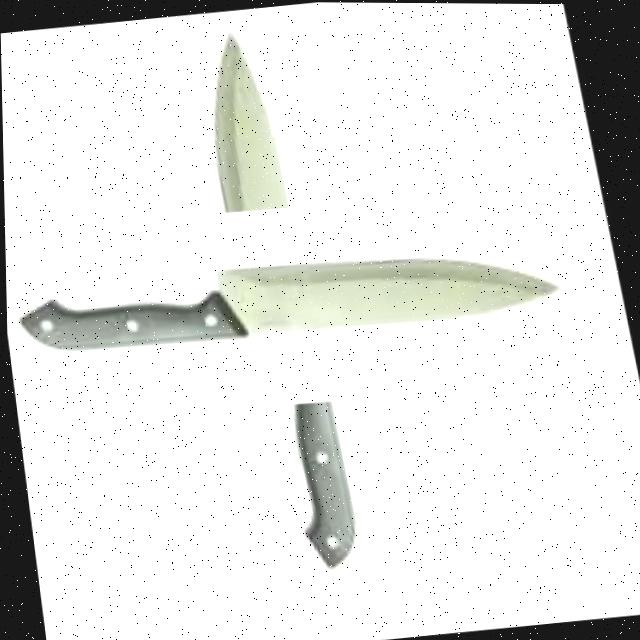knife: (195, 24, 361, 576), (11, 244, 563, 368)
